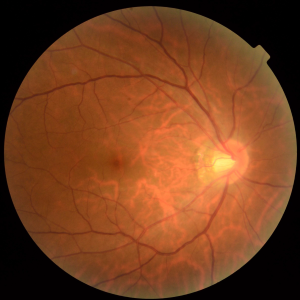healthy_eye: (61, 89, 271, 216)
